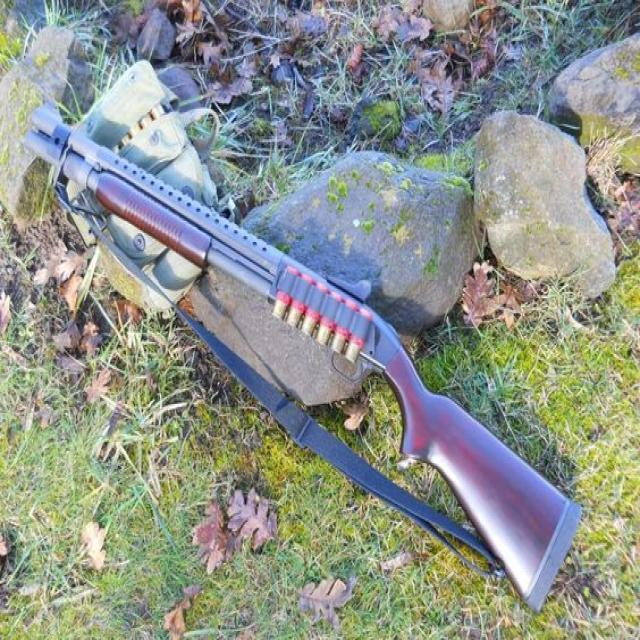shotgun: (26, 96, 585, 612)
